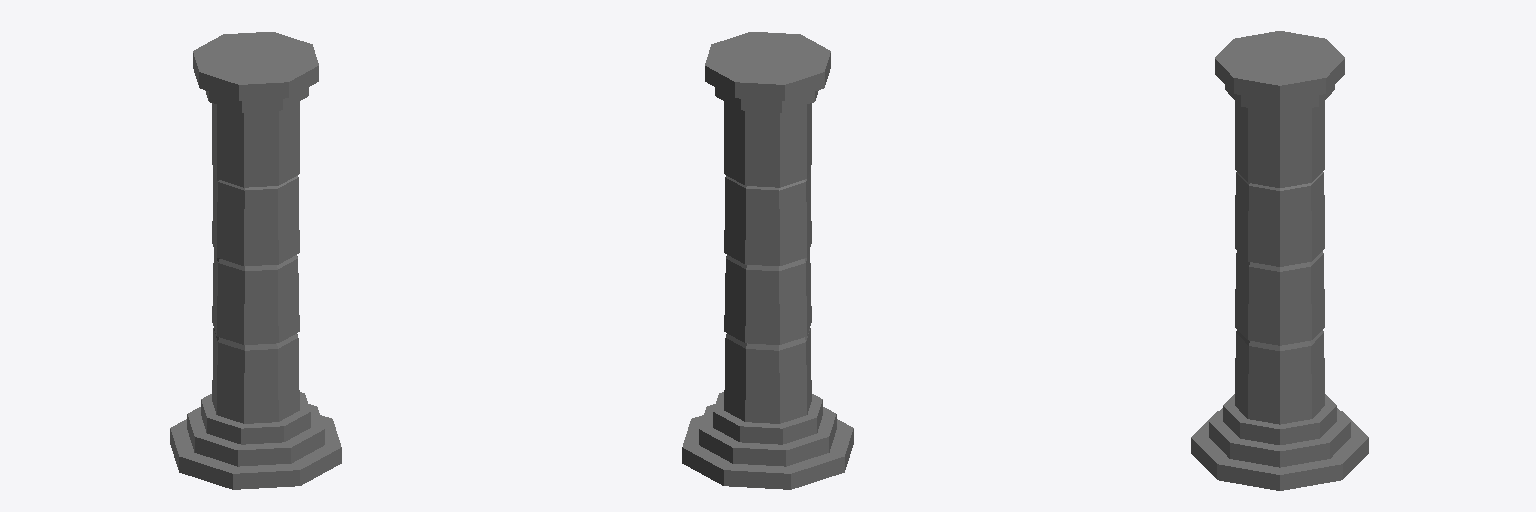
The model's file is Column.obj.
3 renders of one model, left to right at view 1: azimuth 30°, elevation 25°; view 2: azimuth 150°, elevation 25°; view 3: azimuth 270°, elevation 25°, orthographic.
Visible parts, largest first — view 1: Column_Cylinder.006; view 2: Column_Cylinder.006; view 3: Column_Cylinder.006.
Part boxes in pixels (x1,y1,x2,y2): Column_Cylinder.006: (170, 32, 341, 489); Column_Cylinder.006: (682, 32, 853, 489); Column_Cylinder.006: (1191, 31, 1368, 490).
Size of the model in its own units: 2 by 4.92 by 2.